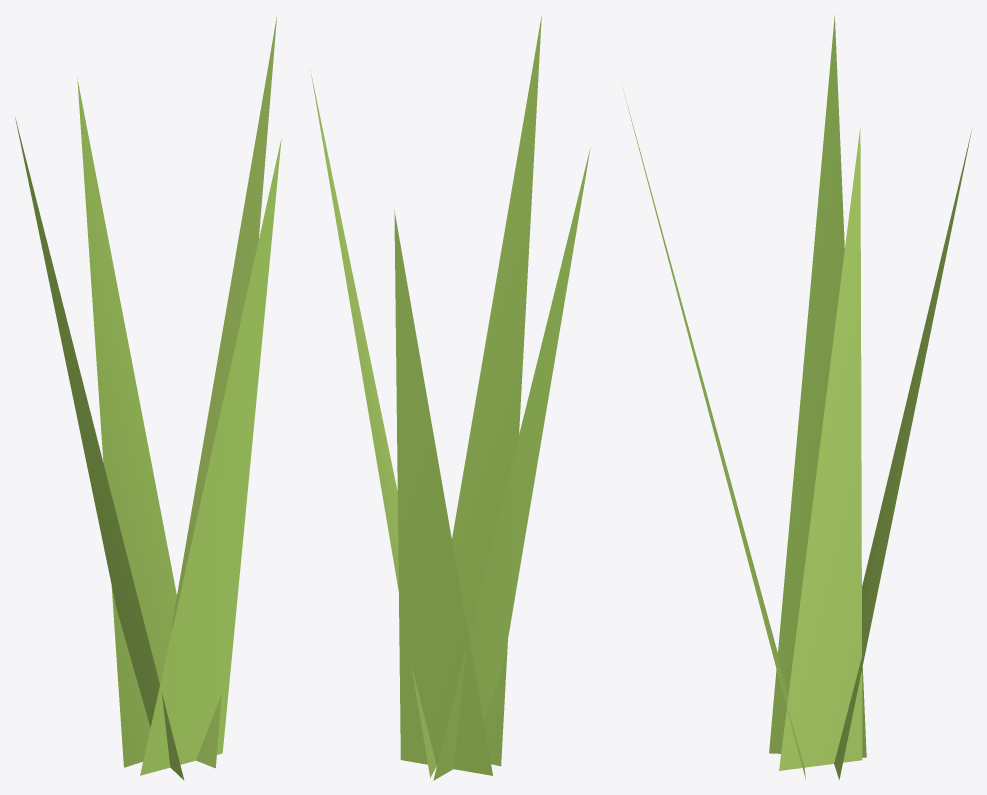
The model's file is grassTuft.far.glb.
The picture shows the model from 3 angles, left to right: view 1: azimuth 30°, elevation 25°; view 2: azimuth 150°, elevation 25°; view 3: azimuth 270°, elevation 25°; orthographic projection. The views are drawn at different scales.
Parts seen in each view (by area): view 1: grassTuft; view 2: grassTuft; view 3: grassTuft.
Part boxes in pixels (x1=…): grassTuft: x1=15, y1=16, x2=281, y2=780; grassTuft: x1=310, y1=16, x2=590, y2=780; grassTuft: x1=623, y1=15, x2=972, y2=779.
Size of the model in its own units: 0.1209 by 0.293 by 0.1351.
